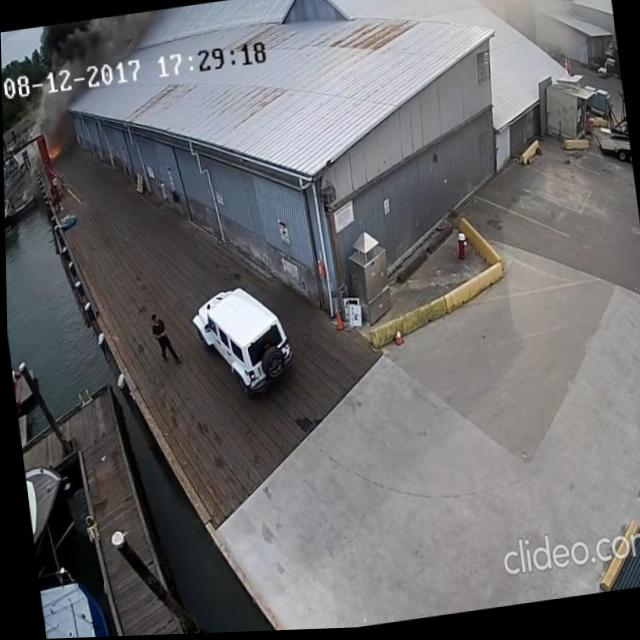fire: (47, 144, 61, 160)
